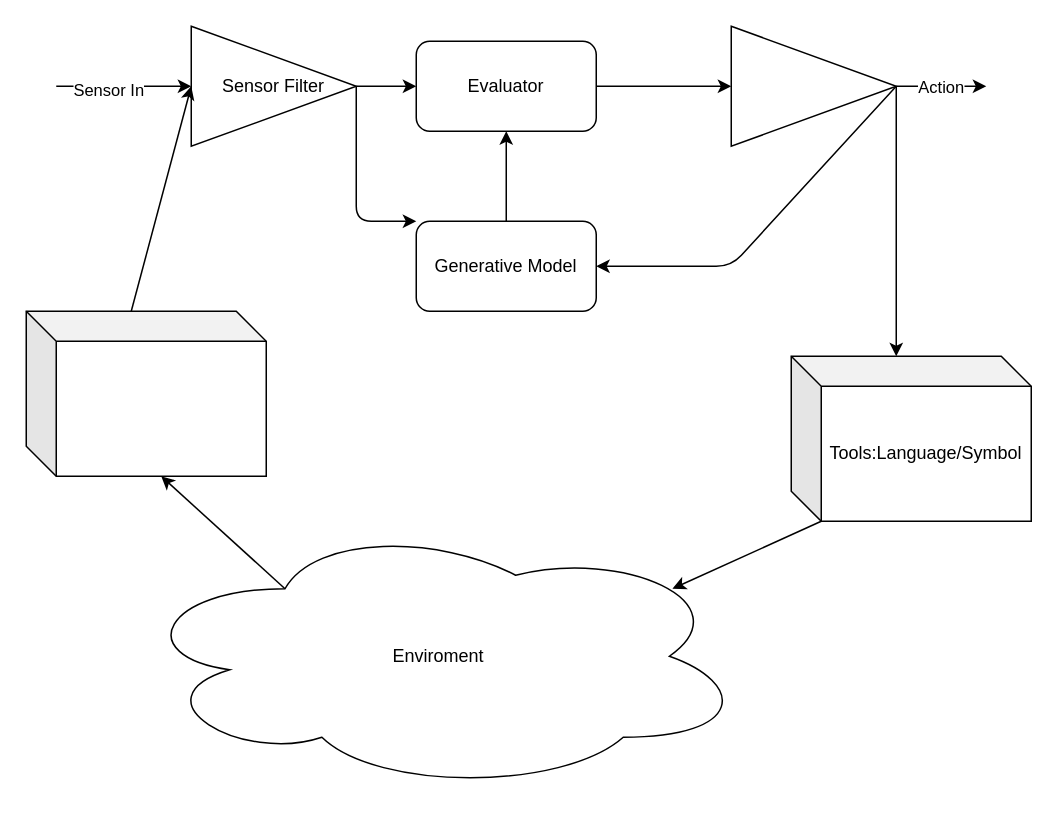
The diagram is 1058 pixels wide and 818 high, and some of its shapes have lost their labels. The centre of each missing label's shape, as x and y in pixels:
Action Filter: (x=813, y=85)
Instrument:Language/Symbol: (x=145, y=393)
